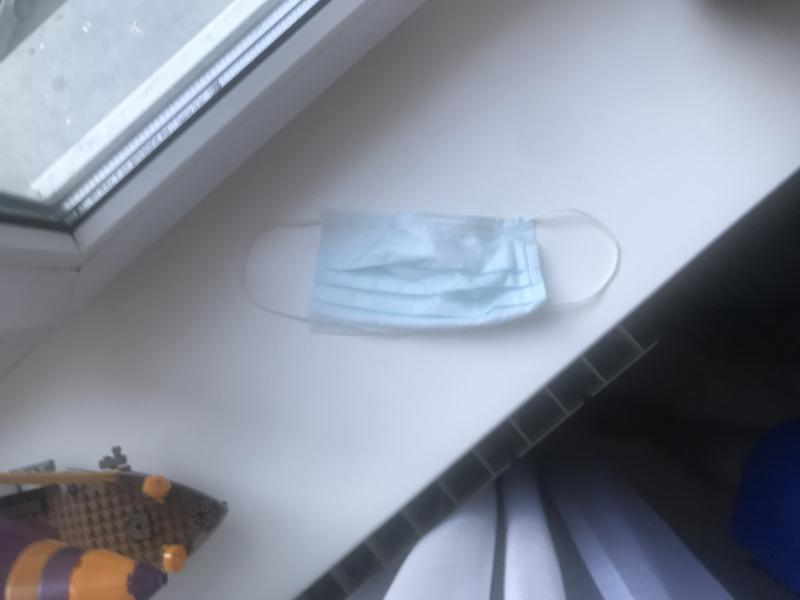medical_mask: (242, 210, 621, 325)
